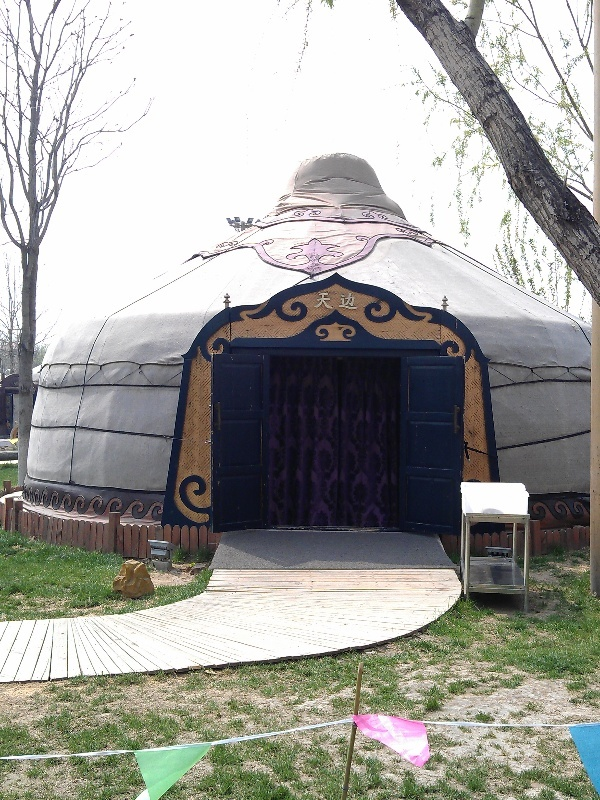text: (321, 292, 336, 311), (337, 292, 352, 311), (314, 292, 320, 311), (353, 292, 359, 311)
